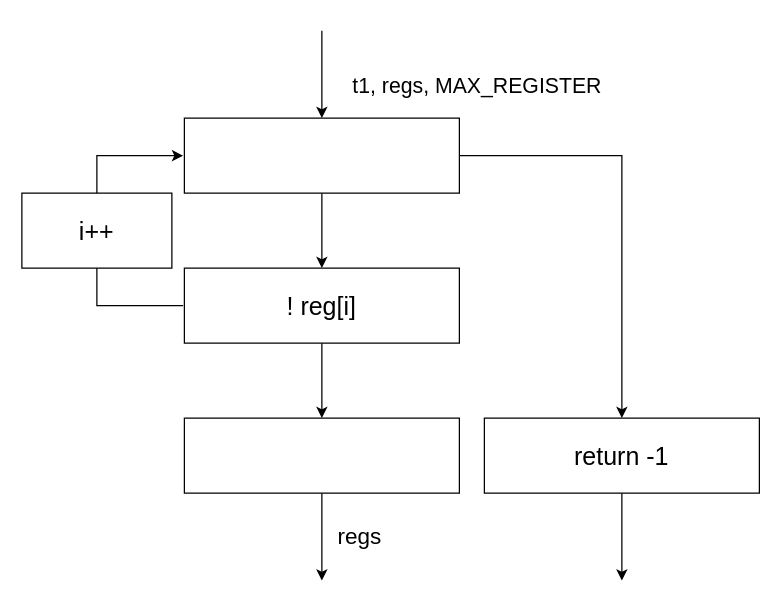
Image size: 781x613. Some labels were removed from this diagram. Here are the shapes that lost their labels. From the top down, the centre of each, then its label:
At point 321,155: "i < MAX_REGISTER".
At point 321,455: "regs[i] = 1; return i;".
